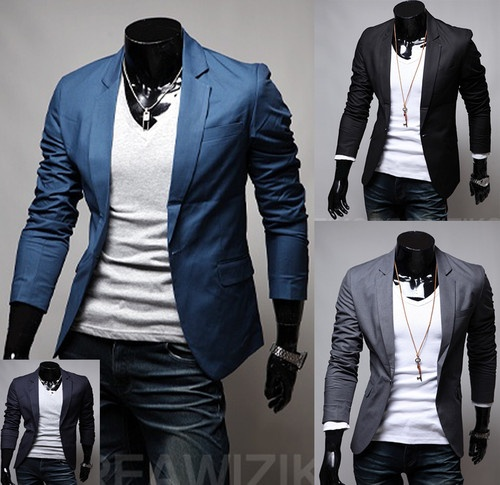F_M_suit jacket: (8, 31, 312, 375), (324, 247, 498, 458), (333, 18, 492, 191), (1, 371, 98, 464)
